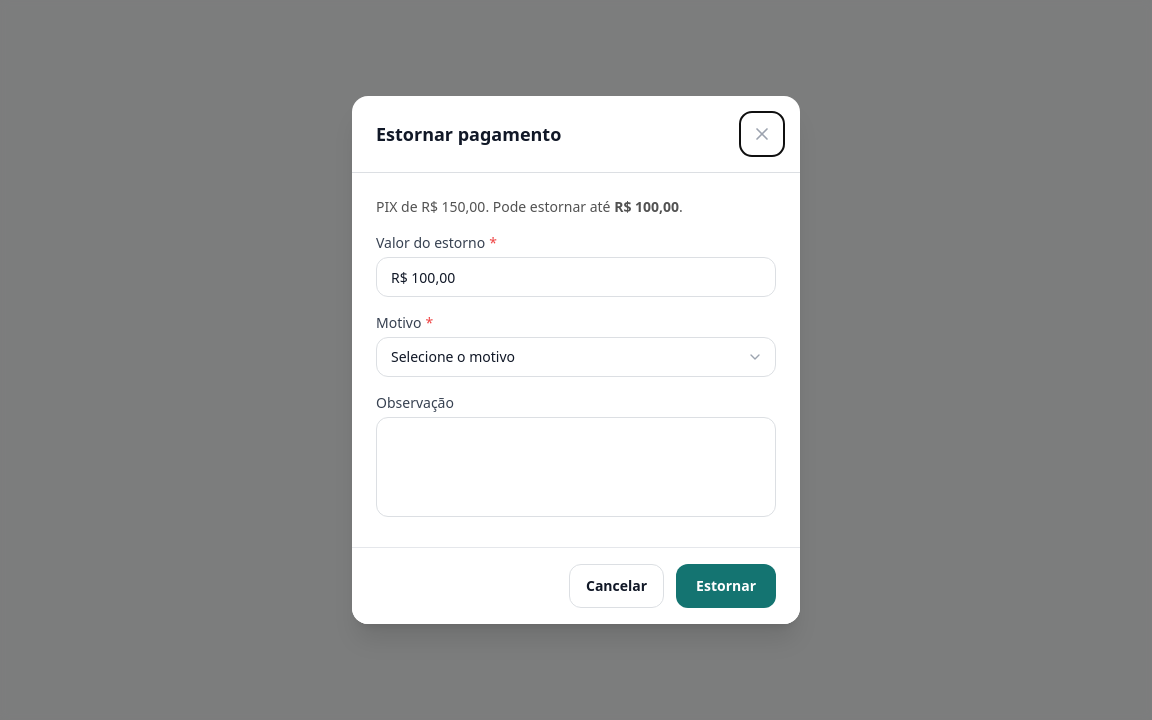
Test: RefundModal › exige motivo e não deixa passar do disponível
The image size is (1152, 720).
Replace the text in the field labelled "Valor do estorno*" with "10001". click: (576, 277)
box: x1=376 y1=257 x2=776 y2=297
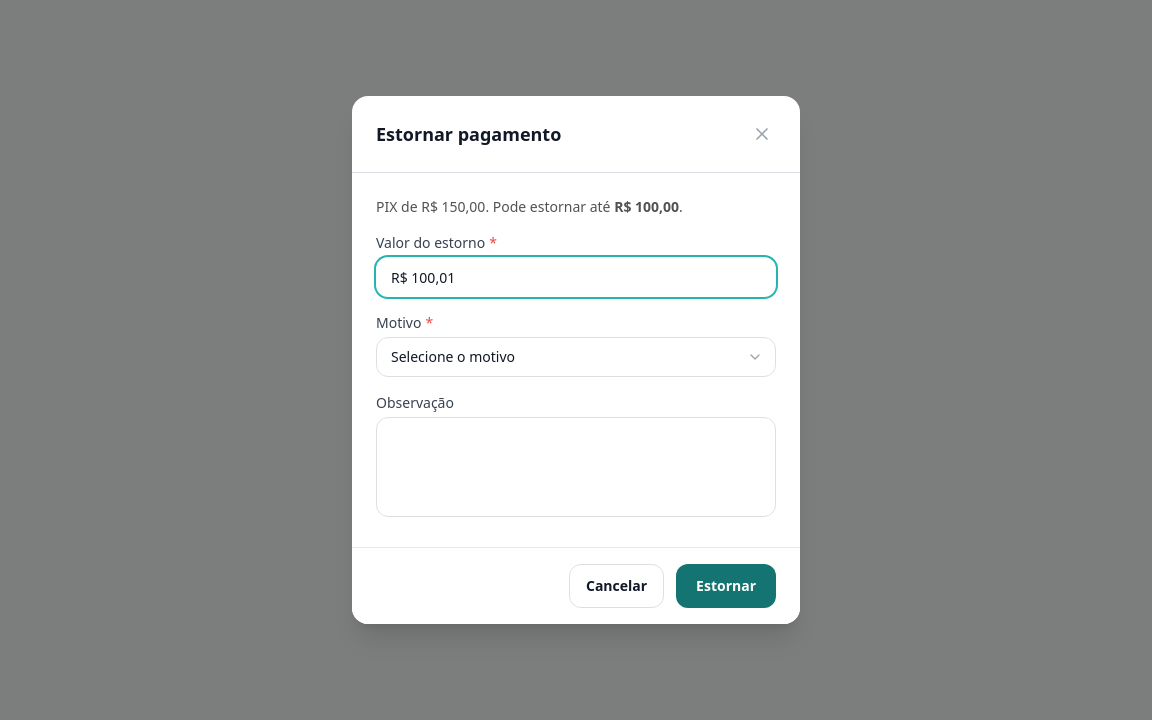
Click the button "Estornar". click: (726, 586)
box: x1=676 y1=564 x2=776 y2=608
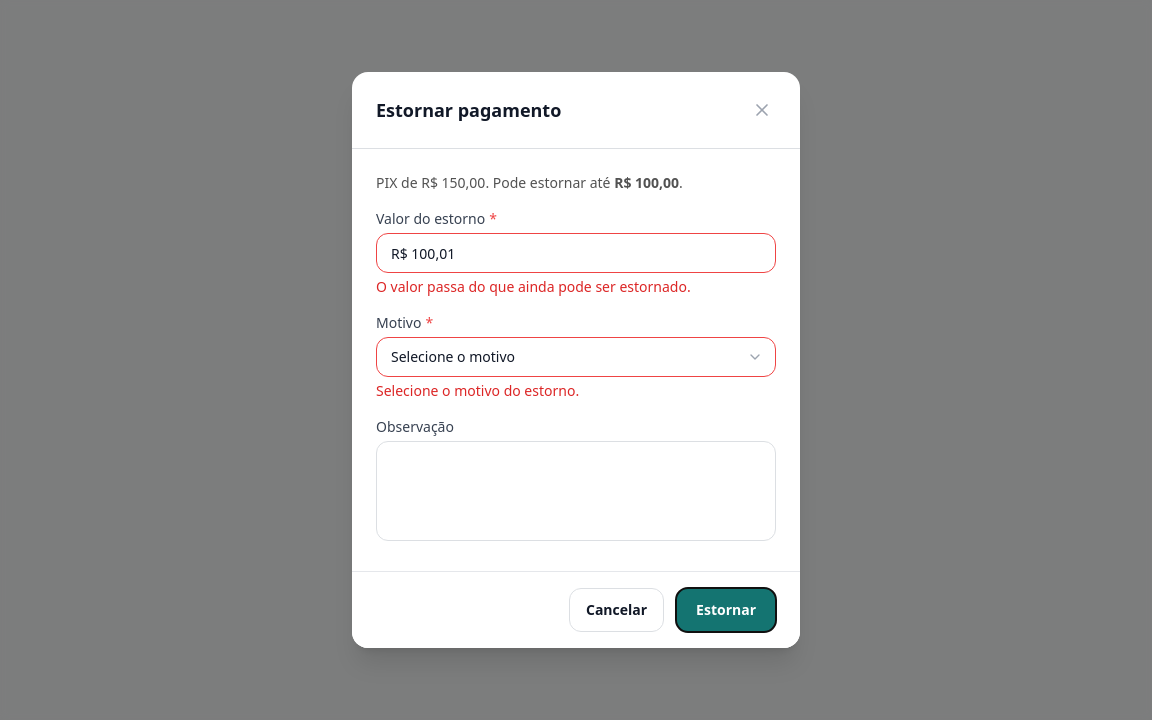
Expected: the text "O valor passa do que ainda pode ser estornado." is shown, x1=376 y1=277 x2=691 y2=296
Expected: the text "Selecione o motivo do estorno." is shown, x1=376 y1=381 x2=579 y2=400
